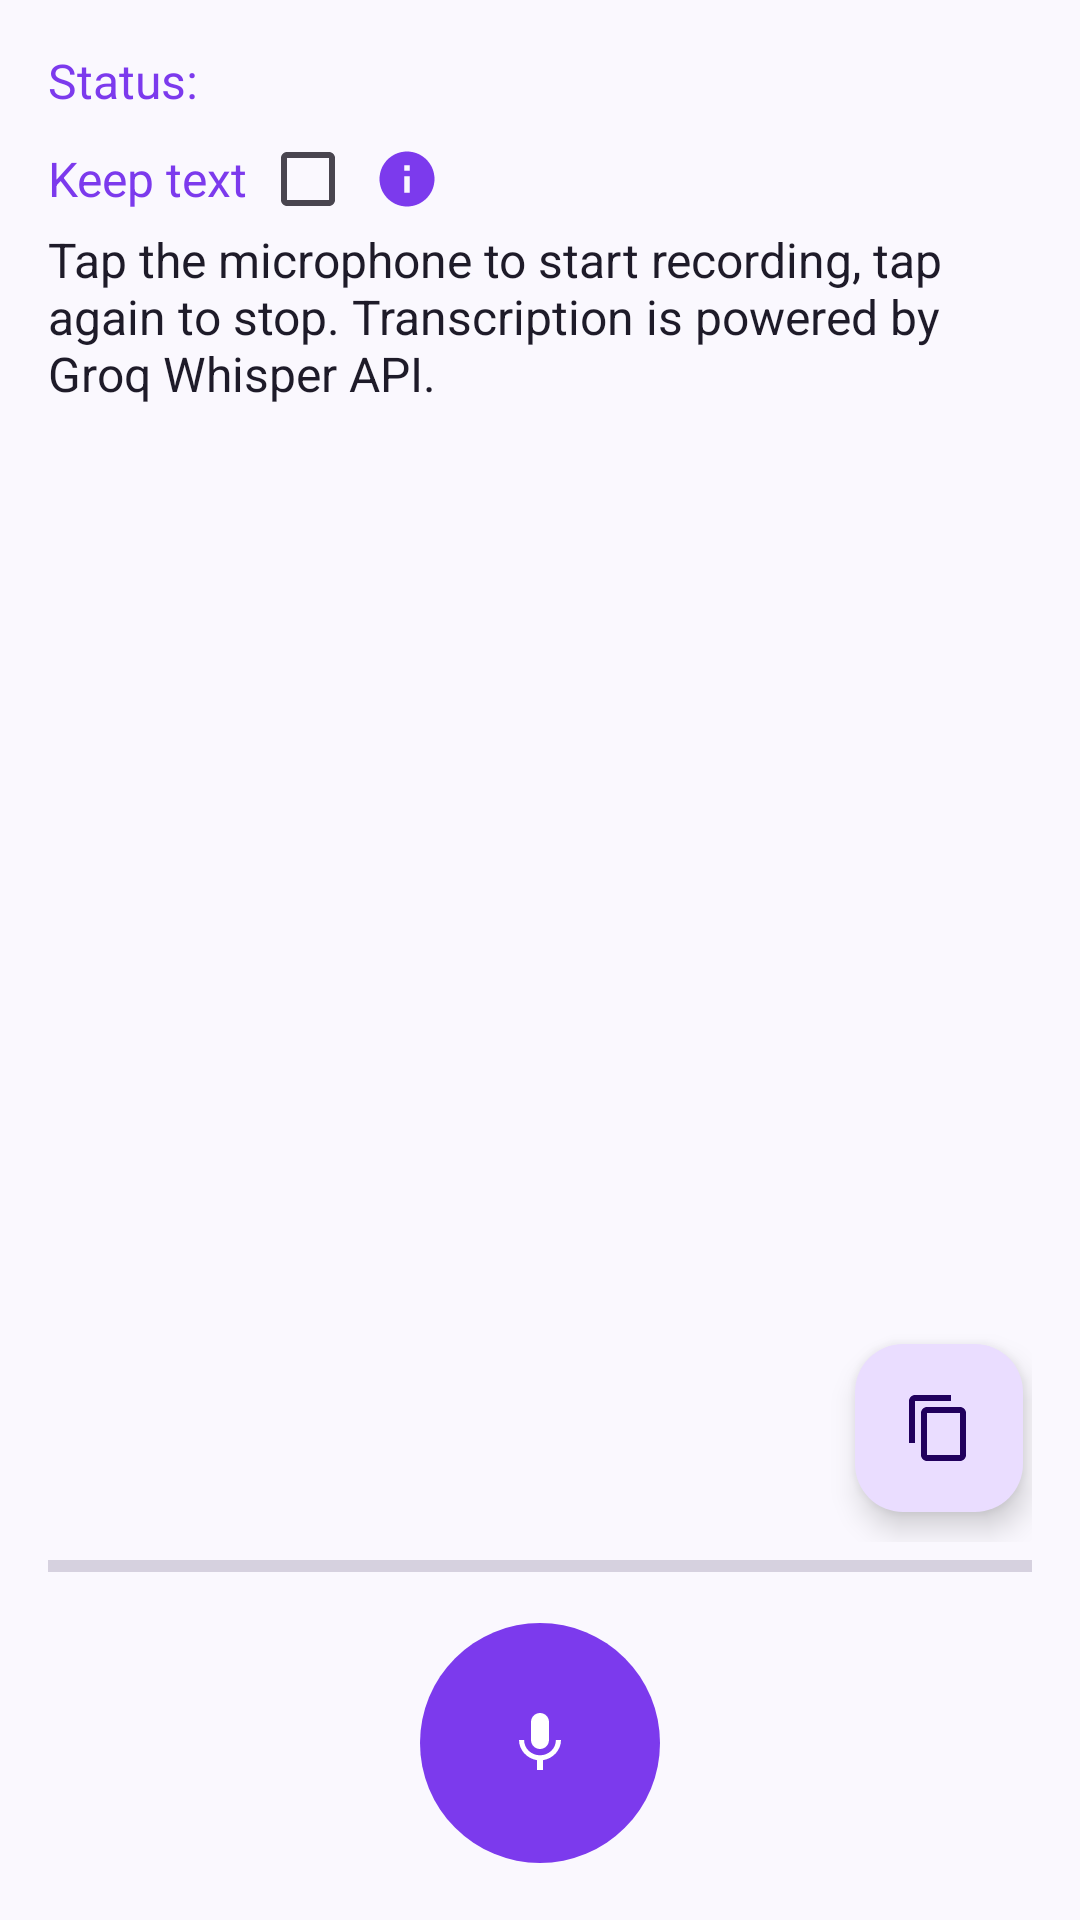

Icons on this 1080x1920 Android screen, each with its box as {"x1": x1, "y1": y1, "x2": x2, "y2": y2}:
Copy: {"x1": 855, "y1": 1344, "x2": 1023, "y2": 1512}
info: {"x1": 379, "y1": 151, "x2": 435, "y2": 207}
Record: {"x1": 420, "y1": 1623, "x2": 660, "y2": 1863}
